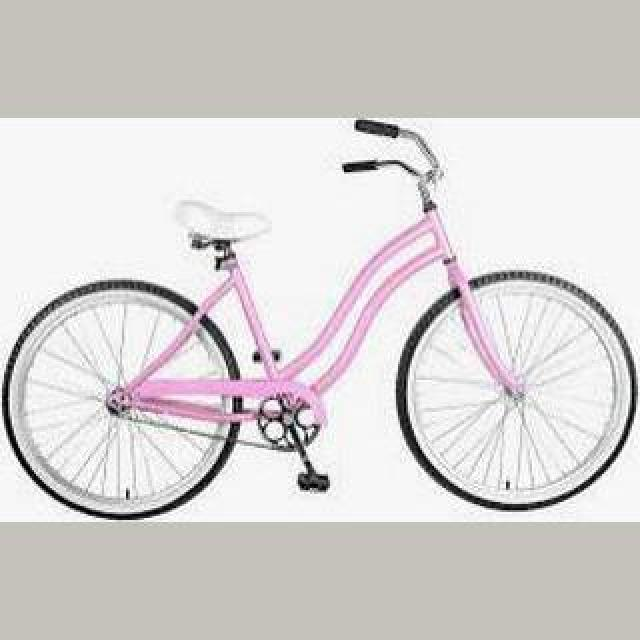Person: (0, 118, 638, 520)
